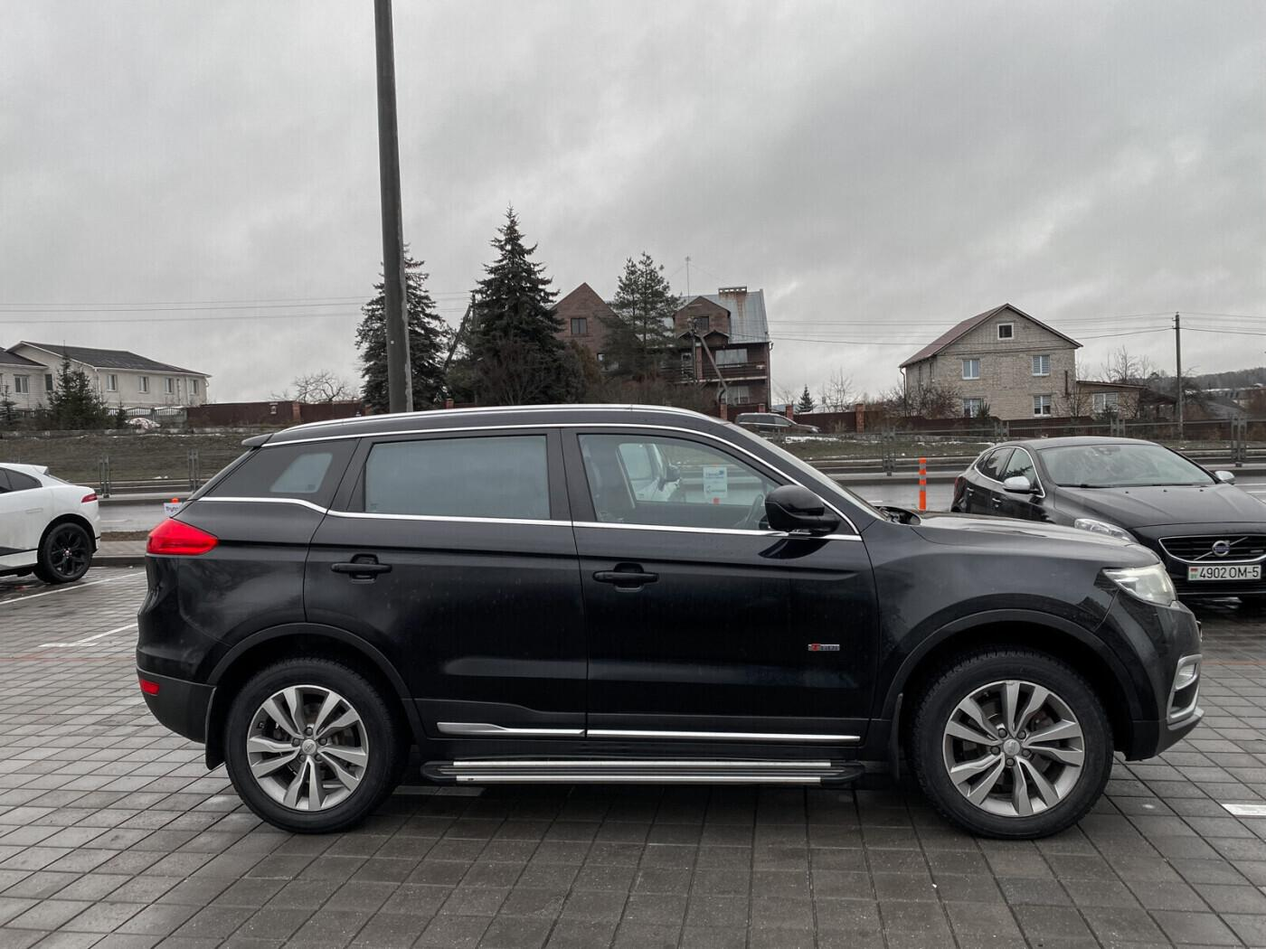Atlas_2016-2023: (127, 411, 1209, 848)
